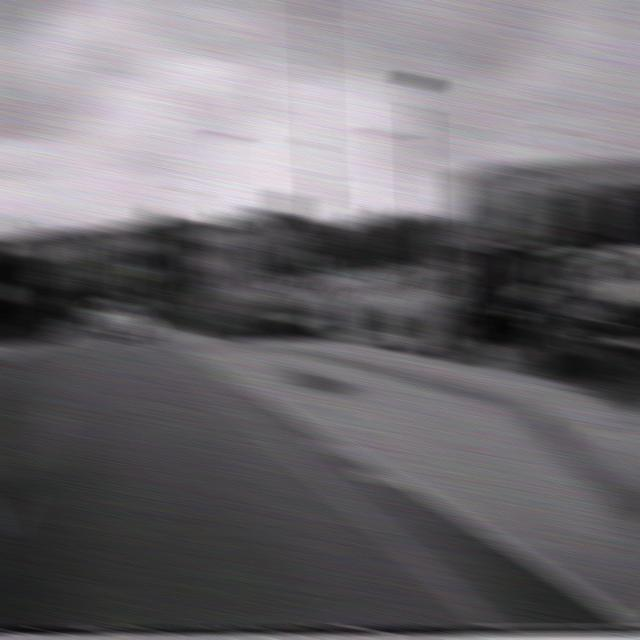stop: (181, 240, 210, 272)
